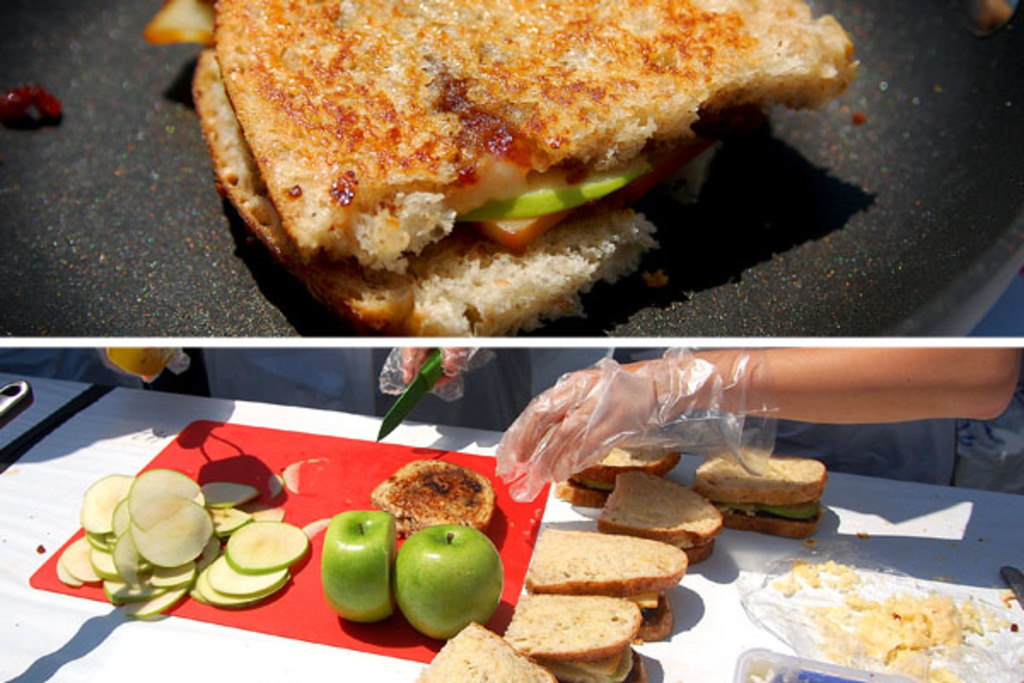Apple: (385, 527, 498, 638), (317, 510, 402, 623)
